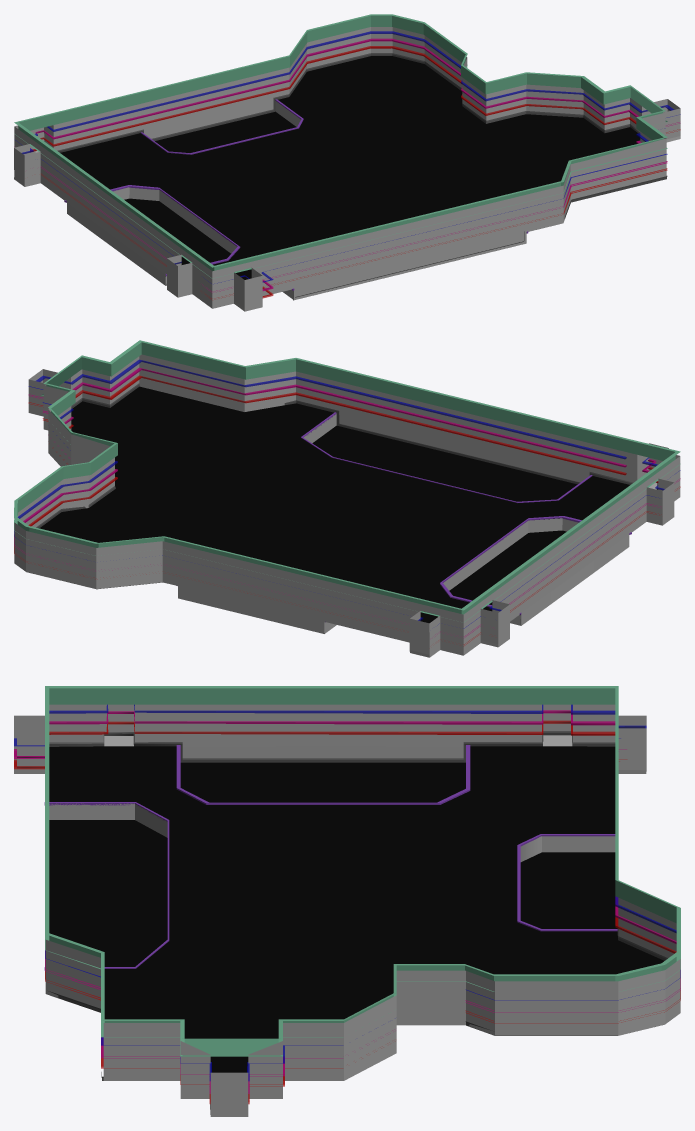
File: Environment_Mesh.fbx
3 renders of one model, top to bottom at view 1: azimuth 30°, elevation 25°; view 2: azimuth 150°, elevation 25°; view 3: azimuth 270°, elevation 25°, orthographic. The views are drawn at different scales.
Visible parts, largest first — view 1: pCube19, pCube15, Pink_LED_MEsh, Red_LED_Mesh, Blue_led_MESH, Edge3, Edge2; view 2: pCube19, pCube15, Pink_LED_MEsh, Blue_led_MESH, Red_LED_Mesh, Edge1, Edge2; view 3: pCube19, pCube15, Pink_LED_MEsh, Red_LED_Mesh, Blue_led_MESH, Edge2, Edge1, Edge3.
Part boxes in pixels (x1,y1,x2,y2): pCube19: (14, 27, 680, 311); pCube15: (14, 14, 667, 278); Pink_LED_MEsh: (14, 38, 680, 292); Red_LED_Mesh: (30, 46, 680, 300); Blue_led_MESH: (14, 31, 680, 284); Edge3: (140, 99, 303, 154); Edge2: (64, 185, 240, 276); pCube19: (14, 354, 680, 657); pCube15: (14, 340, 680, 622); Pink_LED_MEsh: (14, 367, 680, 637); Blue_led_MESH: (14, 359, 680, 628); Red_LED_Mesh: (14, 375, 680, 646); Edge1: (301, 412, 592, 502); Edge2: (440, 516, 631, 615); pCube19: (14, 704, 680, 1116); pCube15: (45, 686, 680, 1056); Pink_LED_MEsh: (14, 710, 680, 1093); Red_LED_Mesh: (14, 720, 680, 1104); Blue_led_MESH: (14, 704, 680, 1081); Edge2: (176, 745, 470, 804); Edge1: (44, 802, 169, 970); Edge3: (517, 834, 617, 931).
Size of the model in its own units: 14746 by 1379 by 10882.
